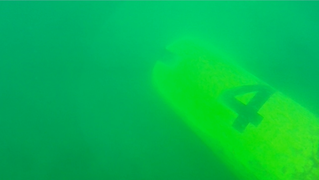4: (220, 81, 276, 134)
pipe: (150, 35, 319, 180)
